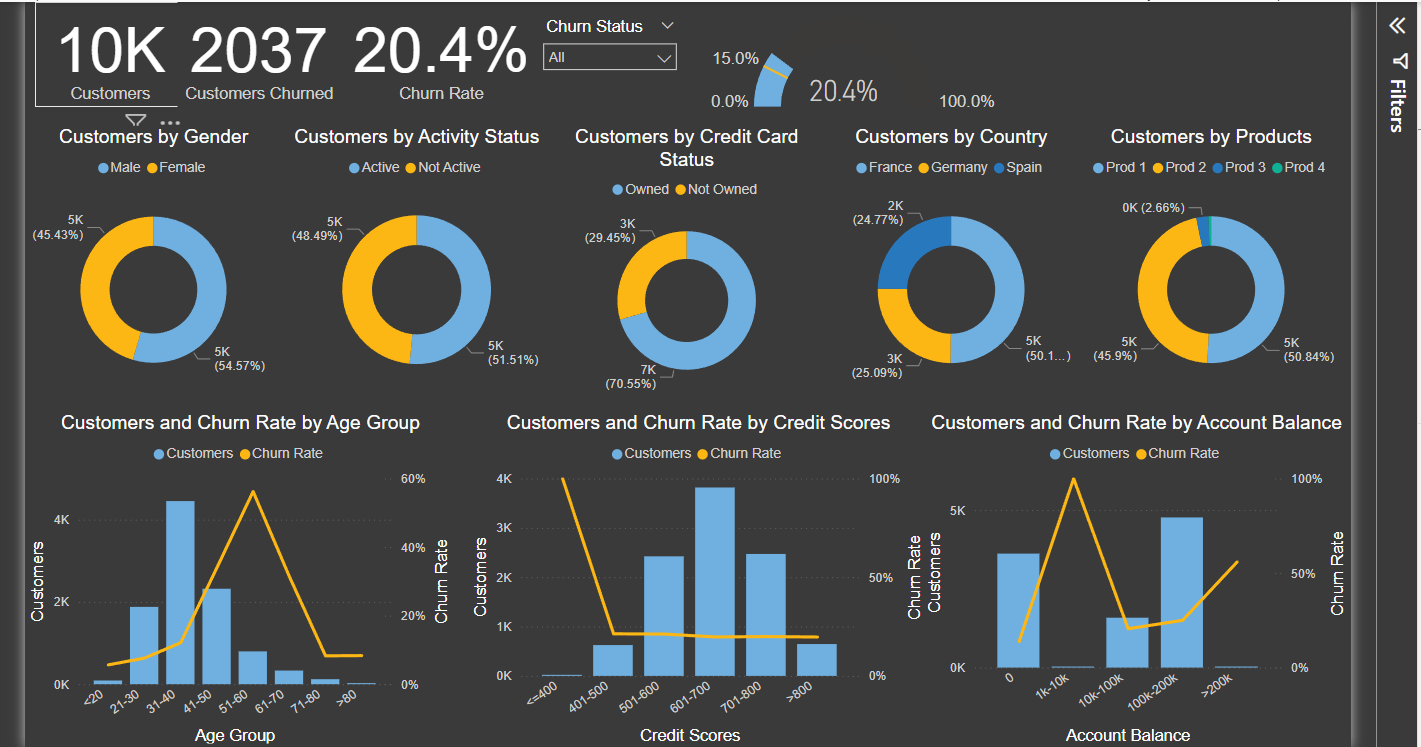

The dashboard page shown, as its layout file describes it:
{"tool":"powerbi","page":{"name":"Page 1","canvas":[1280,720],"ordinal":0},"visuals":[{"type":"card","fields":{"Values":["Customer Data.Customers"]},"box":[9.8,0,145.5,101.5],"z":0},{"type":"card","fields":{"Values":["Customer Data.Customers Churned"]},"box":[146.8,0,157.8,101.5],"z":1},{"type":"card","fields":{"Values":["Customer Data.Churn Rate"]},"box":[304.6,0,193.5,101.5],"z":2},{"type":"donutChart","fields":{"Category":["Customer Data.Gender"],"Y":["Customer Data.Customers"]},"box":[0,119.4,248.4,266.2],"z":3},{"type":"donutChart","fields":{"Y":["Customer Data.Customers"],"Category":["Customer Data.Activity Status"]},"box":[248.4,119.4,259.3,266.2],"z":4},{"type":"donutChart","fields":{"Y":["Customer Data.Customers"],"Category":["Customer Data.Credit Card Status"]},"box":[509.1,119.4,259.3,266.2],"z":5},{"type":"donutChart","fields":{"Y":["Customer Data.Customers"],"Category":["Customer Data.Country"]},"box":[768.4,119.4,251.1,266.2],"z":6},{"type":"donutChart","fields":{"Y":["Customer Data.Customers"],"Category":["Customer Data.Products"]},"box":[1019.6,119.4,251.1,266.2],"z":7},{"type":"lineClusteredColumnComboChart","fields":{"Category":["Age Group ID.Age Group"],"Y":["Customer Data.Customers"],"Y2":["Customer Data.Churn Rate"]},"box":[0,395.2,415.8,325.2],"z":8},{"type":"lineClusteredColumnComboChart","fields":{"Y":["Customer Data.Customers"],"Y2":["Customer Data.Churn Rate"],"Category":["Credit Scores ID.Credit Scores"]},"box":[426.8,395.2,446,325.2],"z":9},{"type":"lineClusteredColumnComboChart","fields":{"Y":["Customer Data.Customers"],"Y2":["Customer Data.Churn Rate"],"Category":["Acct Balance ID.Account Balance"]},"box":[864.5,395.2,415.8,325.2],"z":10},{"type":"slicer","fields":{"Values":["Customer Data.Churn Status"]},"box":[489.9,9.6,149.6,91.9],"z":11},{"type":"gauge","fields":{"Y":["Customer Data.Churn Rate"],"MinValue":["Min(Customer Data.Minimum Churn Rate)"],"MaxValue":["Max(Customer Data.Maximum Churn Rate)"],"TargetValue":["Min(Customer Data.Target Churn Rate)"]},"box":[650.4,9.6,297.8,101.5],"z":12}]}

Visuals, with their boxes in screenshot pixels (x1, y1, x2, y2):
card - Customer Data.Customers: bbox=[117, 18, 266, 122]
card - Customer Data.Customers Churned: bbox=[258, 18, 419, 122]
card - Customer Data.Churn Rate: bbox=[419, 18, 617, 122]
donutChart - Customer Data.Gender x Customer Data.Customers: bbox=[107, 141, 362, 413]
donutChart - Customer Data.Customers x Customer Data.Activity Status: bbox=[362, 141, 627, 413]
donutChart - Customer Data.Customers x Customer Data.Credit Card Status: bbox=[629, 141, 894, 413]
donutChart - Customer Data.Customers x Customer Data.Country: bbox=[894, 141, 1151, 413]
donutChart - Customer Data.Customers x Customer Data.Products: bbox=[1151, 141, 1408, 413]
lineClusteredColumnComboChart - Age Group ID.Age Group x Customer Data.Customers: bbox=[107, 423, 533, 746]
lineClusteredColumnComboChart - Customer Data.Customers x Customer Data.Churn Rate: bbox=[544, 423, 1001, 746]
lineClusteredColumnComboChart - Customer Data.Customers x Customer Data.Churn Rate: bbox=[992, 423, 1418, 746]
slicer - Customer Data.Churn Status: bbox=[609, 28, 762, 122]
gauge - Customer Data.Churn Rate x Min(Customer Data.Minimum Churn Rate): bbox=[773, 28, 1078, 132]
